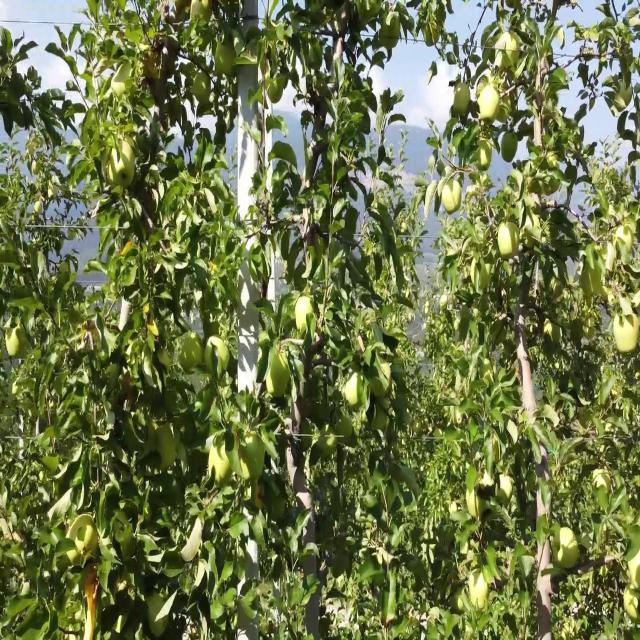apple: (108, 142, 136, 196), (612, 312, 640, 356), (212, 442, 236, 487), (84, 568, 100, 631), (156, 426, 177, 471), (268, 348, 291, 389), (268, 362, 292, 398), (216, 42, 238, 80), (84, 568, 100, 617), (500, 220, 519, 261), (296, 298, 315, 338), (500, 35, 521, 71), (380, 14, 401, 50), (444, 177, 463, 215), (208, 341, 229, 375), (480, 85, 498, 124), (8, 327, 28, 359), (192, 71, 213, 101), (624, 583, 640, 622), (472, 575, 488, 613), (372, 369, 392, 398), (616, 227, 633, 261), (321, 426, 337, 460), (144, 49, 161, 80), (348, 376, 363, 411), (500, 135, 518, 164), (336, 412, 354, 441), (456, 85, 472, 116), (476, 142, 493, 171), (496, 476, 513, 505), (524, 220, 539, 252), (592, 469, 612, 492), (628, 554, 640, 590), (372, 405, 388, 432), (604, 241, 616, 276), (496, 99, 510, 126), (252, 483, 265, 512), (480, 71, 496, 92), (424, 28, 439, 50), (196, 7, 213, 23), (480, 78, 494, 92)
